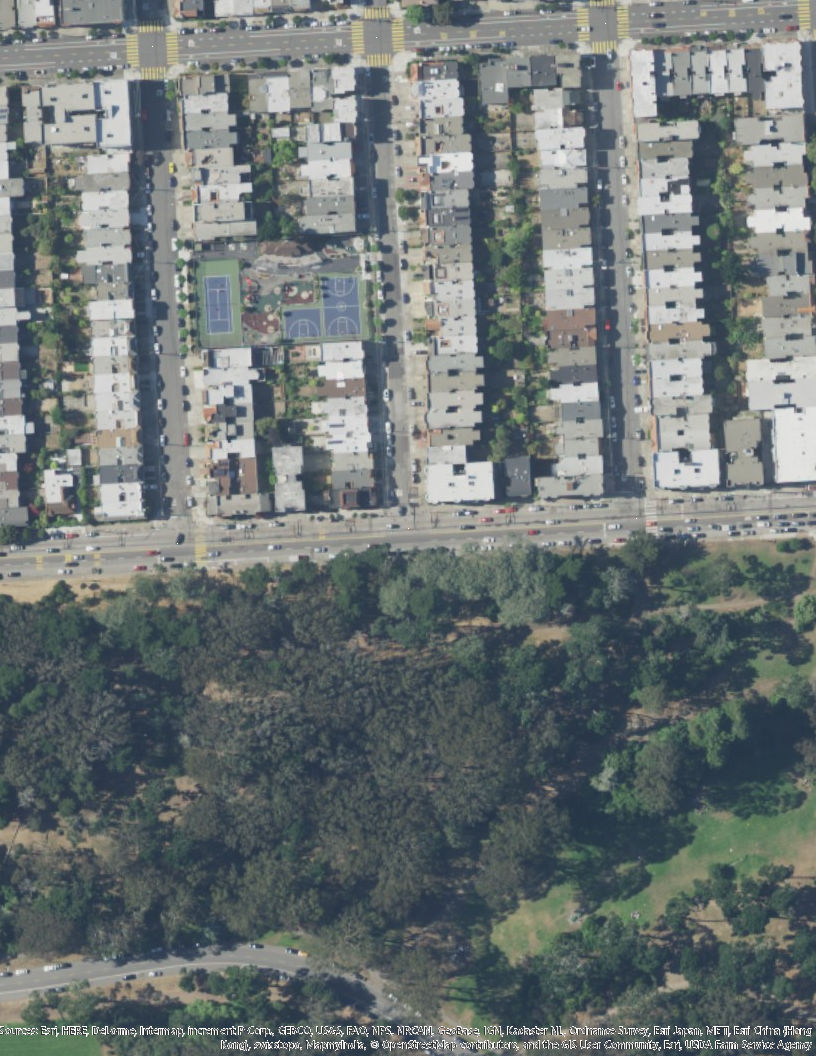zebracross: (164, 32, 180, 66), (351, 19, 366, 55), (390, 19, 405, 54), (576, 8, 591, 41), (125, 32, 139, 67), (364, 3, 391, 20), (616, 6, 630, 37), (138, 17, 166, 32), (646, 501, 658, 535), (593, 41, 618, 55), (140, 66, 166, 79), (366, 54, 392, 66), (588, 1, 614, 7)
